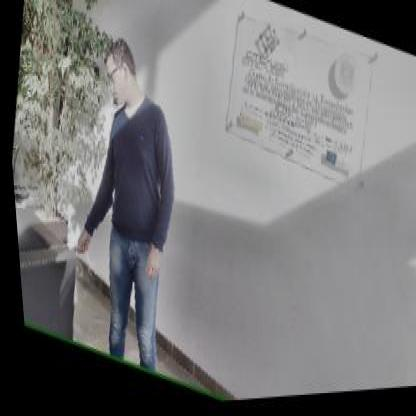knife: (46, 223, 88, 276)
